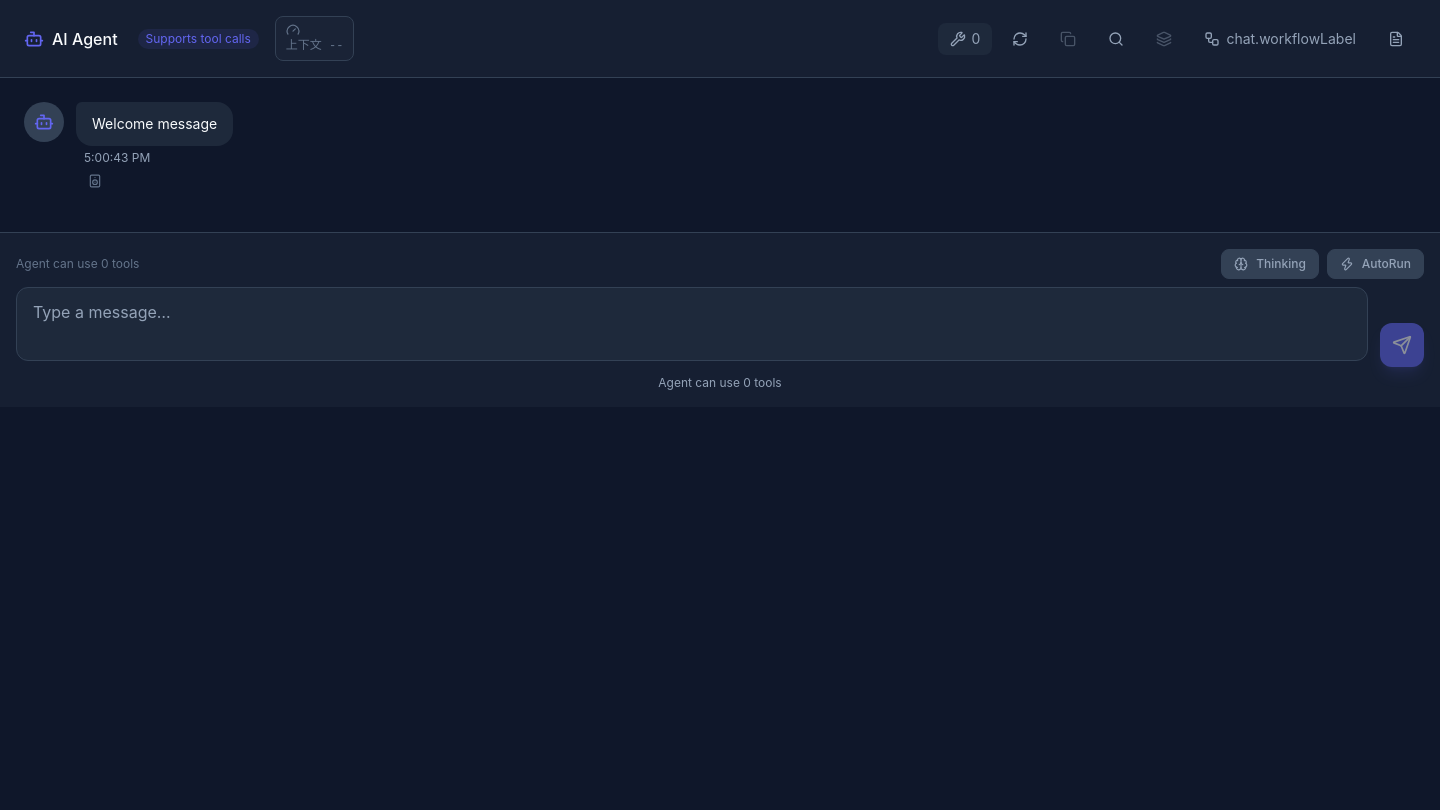
Test case: AgentChat › handles a rejected chat promise gracefully
The image size is (1440, 810).
Type "x" into the text box with placeholder "Type a message…".
click(692, 324); type("x")  # box [16,287,1368,361]
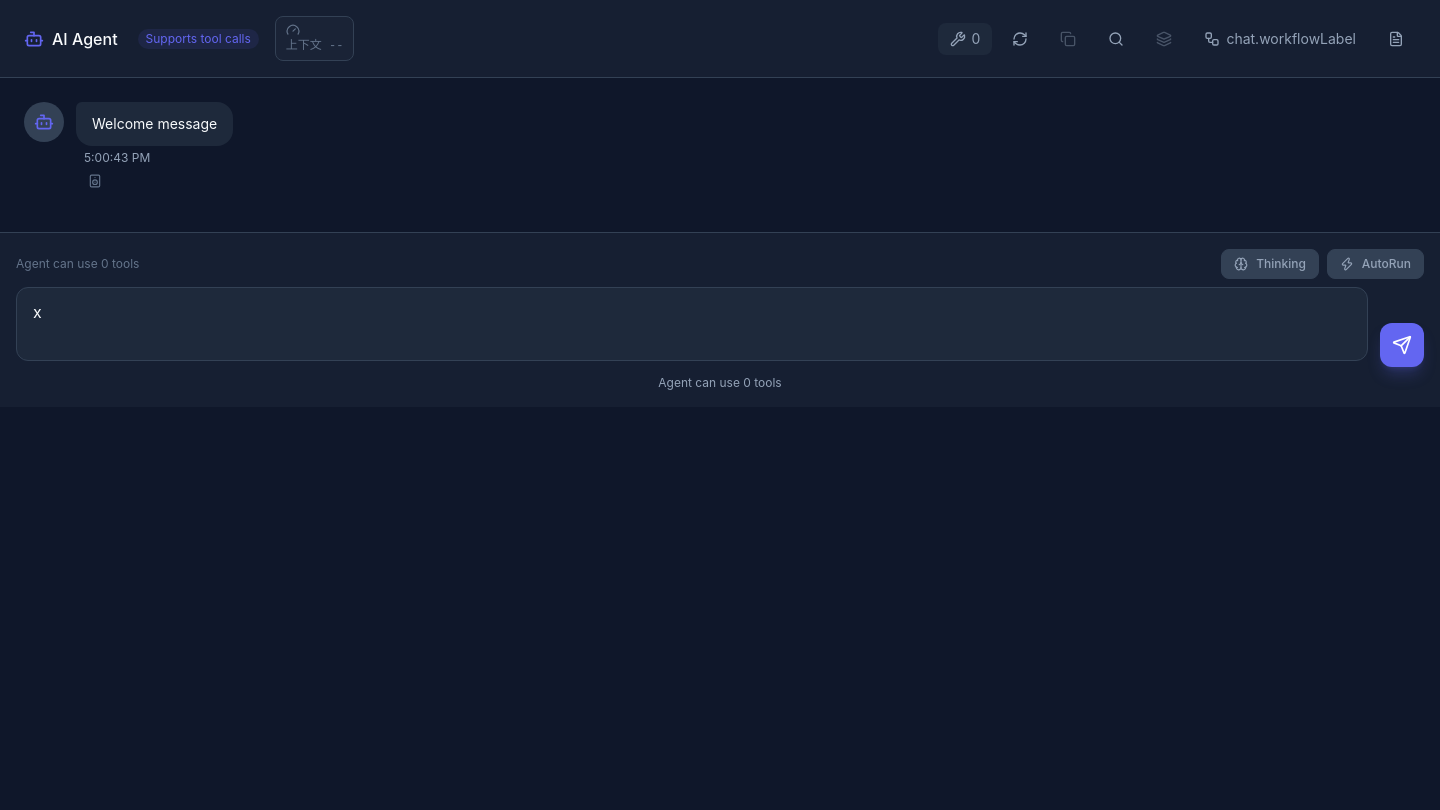
Click the button titled "Send".
click(1402, 345)  # box [1380,323,1424,367]
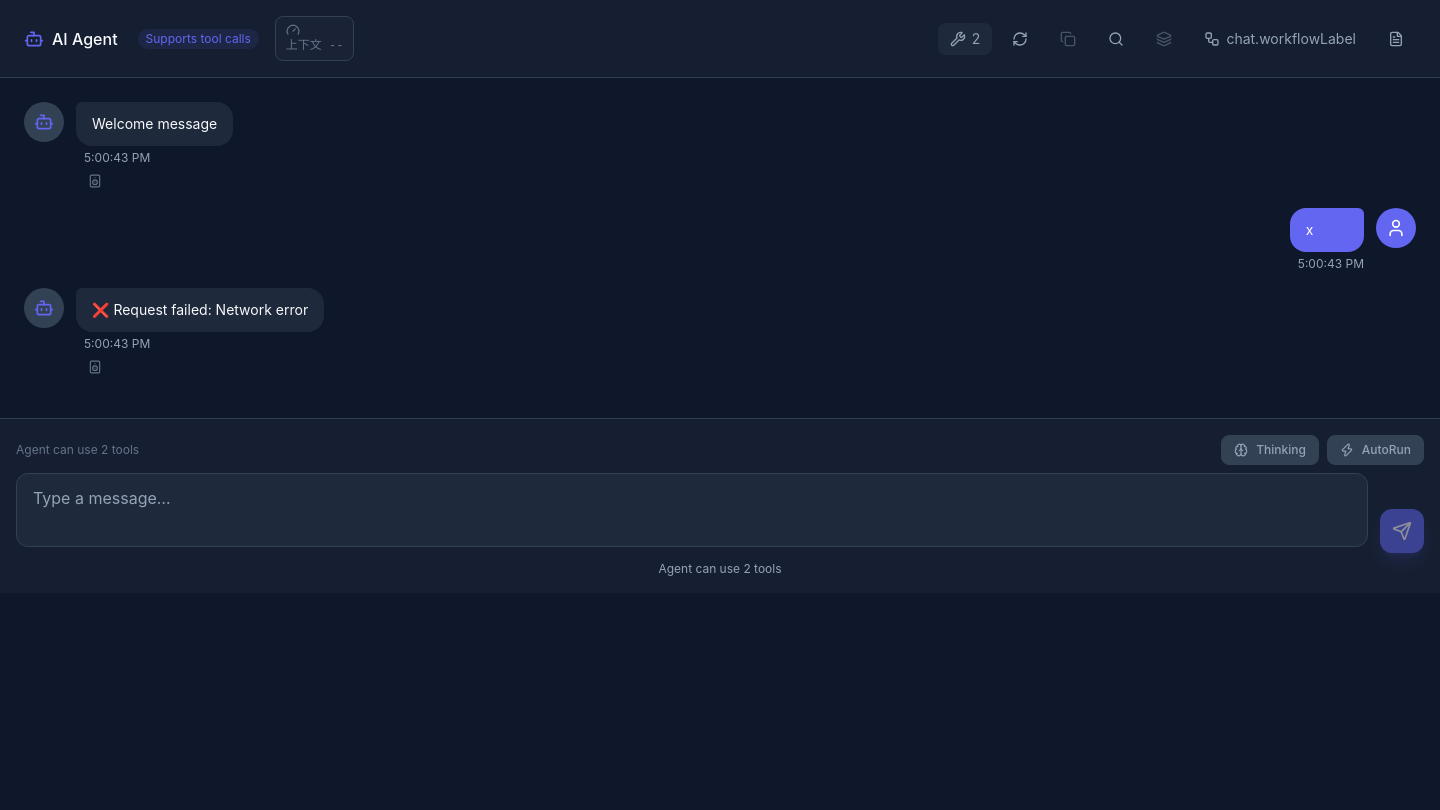
Expected: the text "❌ Request failed: Network error" is shown, [92,300,308,320]
